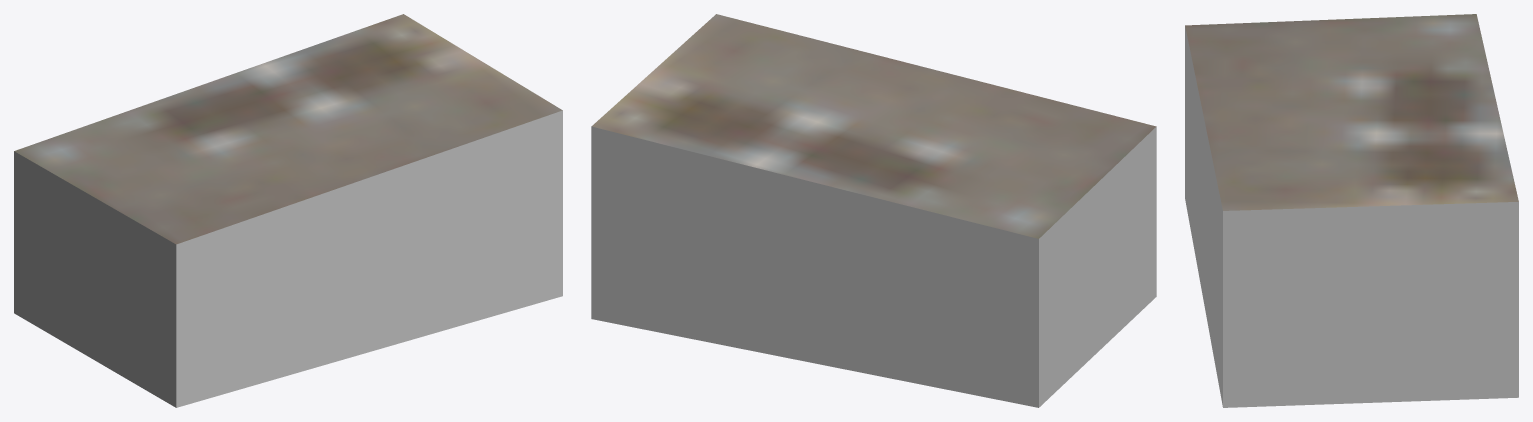
The model's file is DEBW_0010007Txcl.gltf.
3 renders of one model, left to right at view 1: azimuth 30°, elevation 25°; view 2: azimuth 150°, elevation 25°; view 3: azimuth 270°, elevation 25°, orthographic. The views are drawn at different scales.
Parts seen in each view (by area): view 1: Z_UP; view 2: Z_UP; view 3: Z_UP.
Part boxes in pixels (<box>): Z_UP: <box>14,14,562,407</box>; Z_UP: <box>591,14,1156,407</box>; Z_UP: <box>1185,14,1518,407</box>.
Bounding box in the file's own units: 6.09 × 2.52 × 3.87.
Materials: 2 (1 with a texture image).
